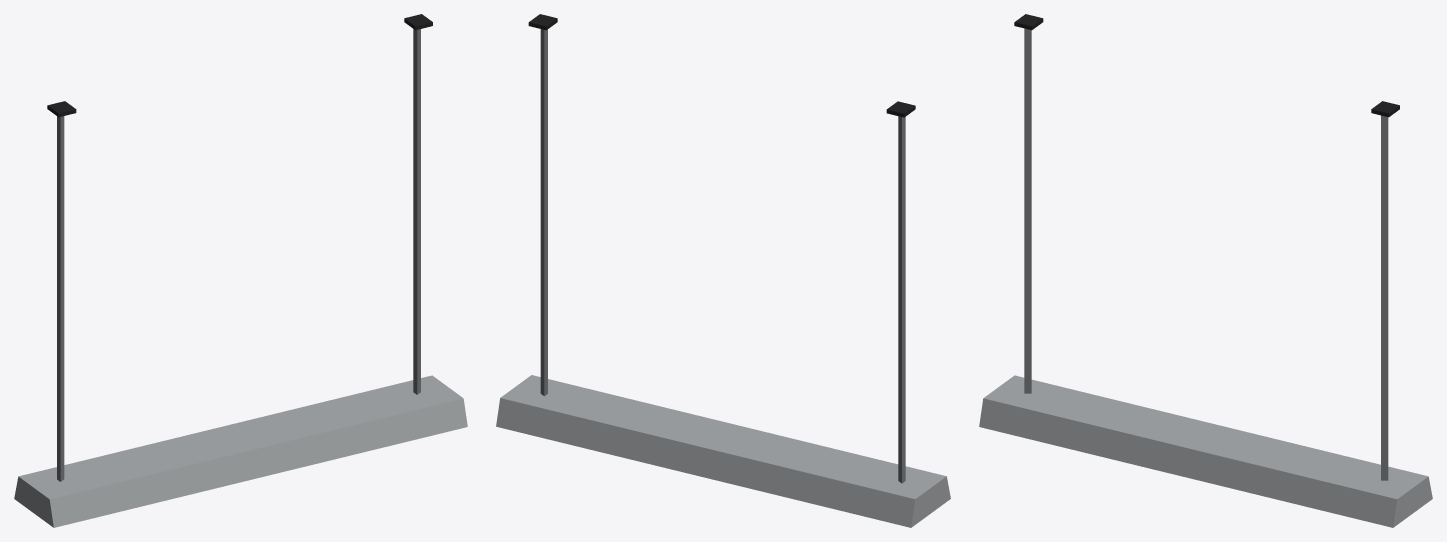
File: SM_lamp_01.fbx
3 renders of one model, left to right at view 1: azimuth 30°, elevation 25°; view 2: azimuth 150°, elevation 25°; view 3: azimuth 330°, elevation 25°, orthographic.
Parts seen in each view (by area): view 1: Box007; view 2: Box007; view 3: Box007.
Part boxes in pixels (x1=…): Box007: x1=14, y1=14, x2=467, y2=527; Box007: x1=496, y1=14, x2=950, y2=527; Box007: x1=979, y1=14, x2=1432, y2=527.
Bounding box in the file's own units: 60.95 × 57.03 × 10.13.
